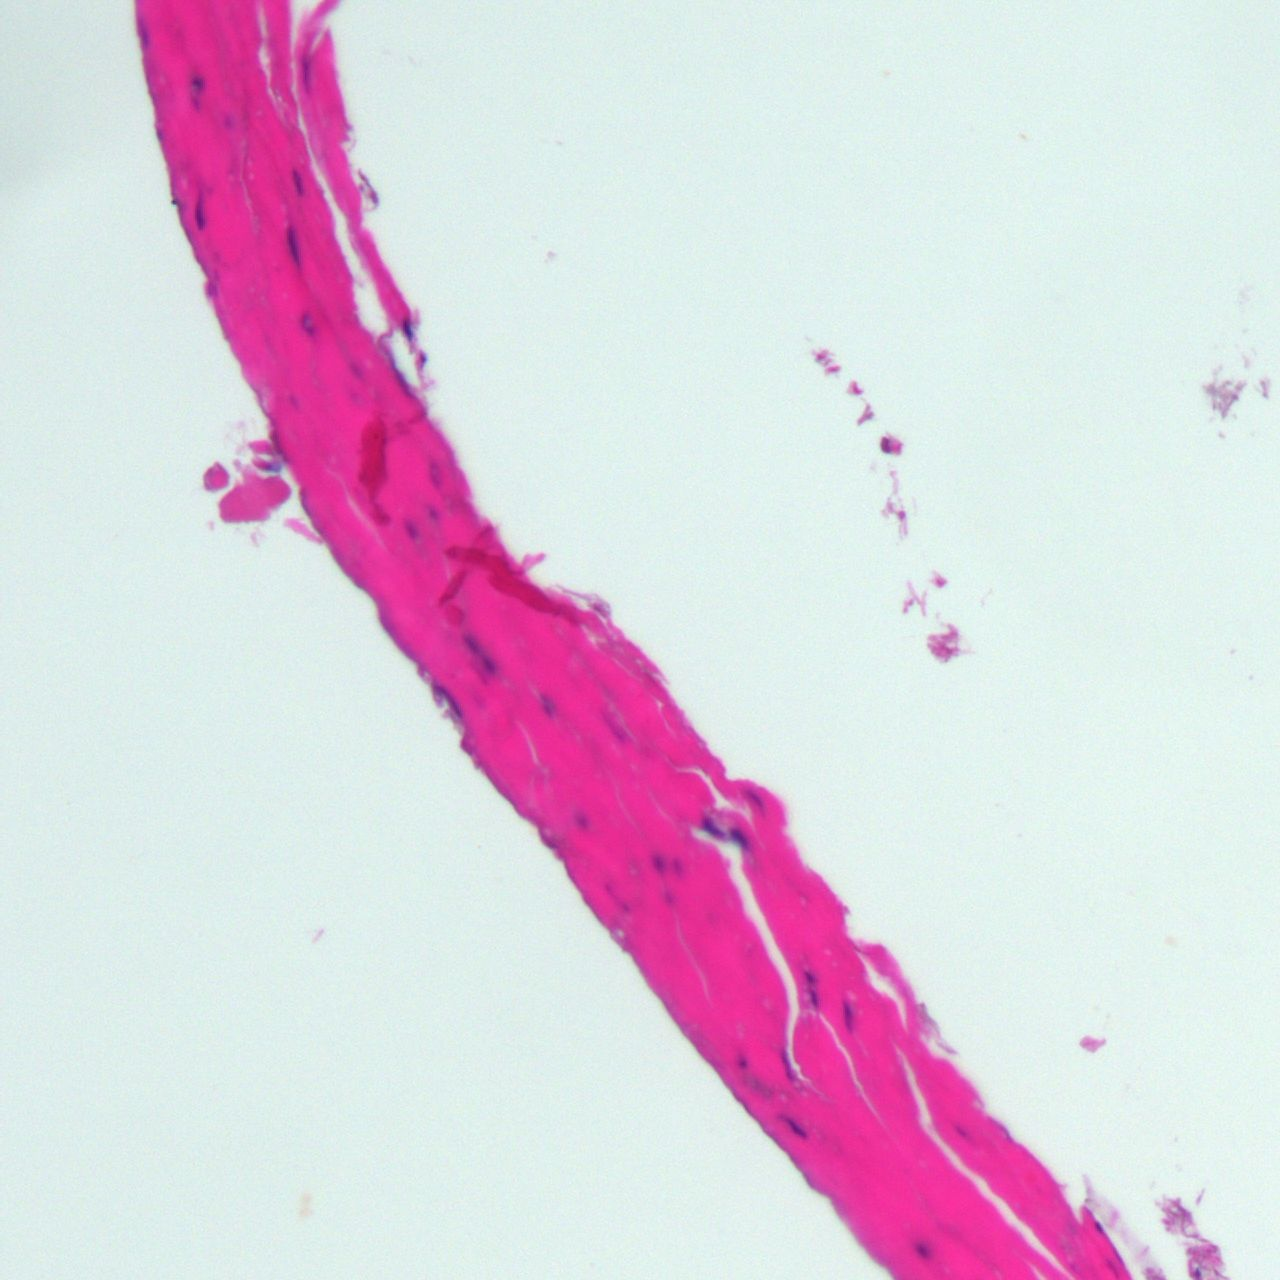nucleus-HE: (459, 624, 497, 676), (726, 824, 755, 855), (779, 1114, 811, 1142), (697, 813, 727, 843), (282, 222, 302, 263), (287, 163, 307, 193), (195, 188, 207, 229), (913, 1238, 937, 1260), (427, 457, 442, 489), (651, 851, 667, 873), (191, 73, 202, 107), (401, 316, 415, 341), (300, 312, 314, 336), (540, 692, 554, 715), (843, 1001, 853, 1032), (404, 519, 421, 538), (301, 57, 311, 90), (802, 966, 817, 985), (574, 810, 586, 828), (809, 988, 821, 1006), (428, 506, 440, 519), (737, 1054, 745, 1067)
